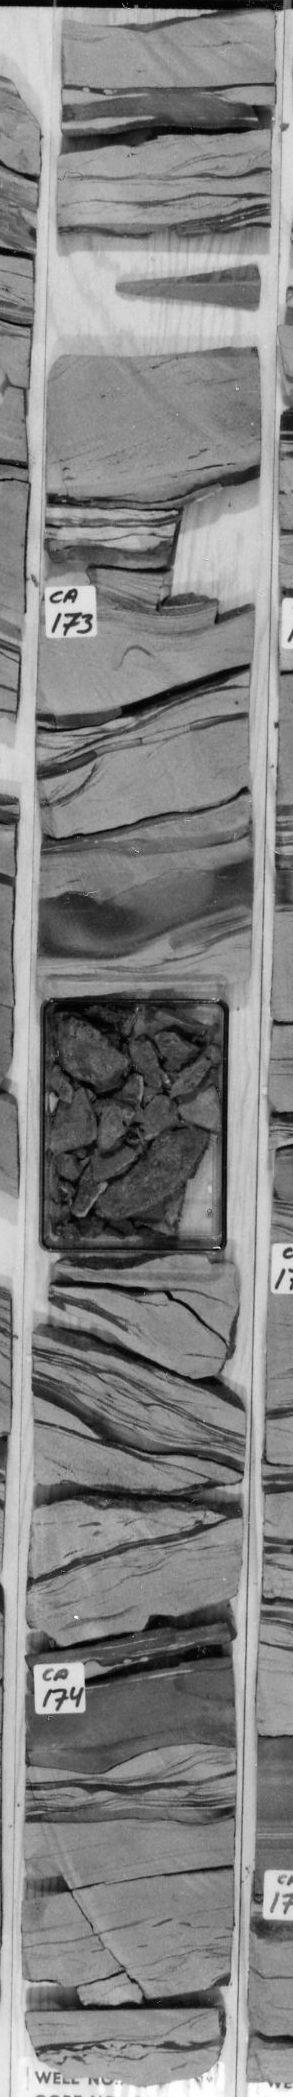hplug: (44, 548, 108, 610)
scal: (59, 197, 268, 280), (54, 282, 258, 366)
vplug: (155, 468, 234, 637)
